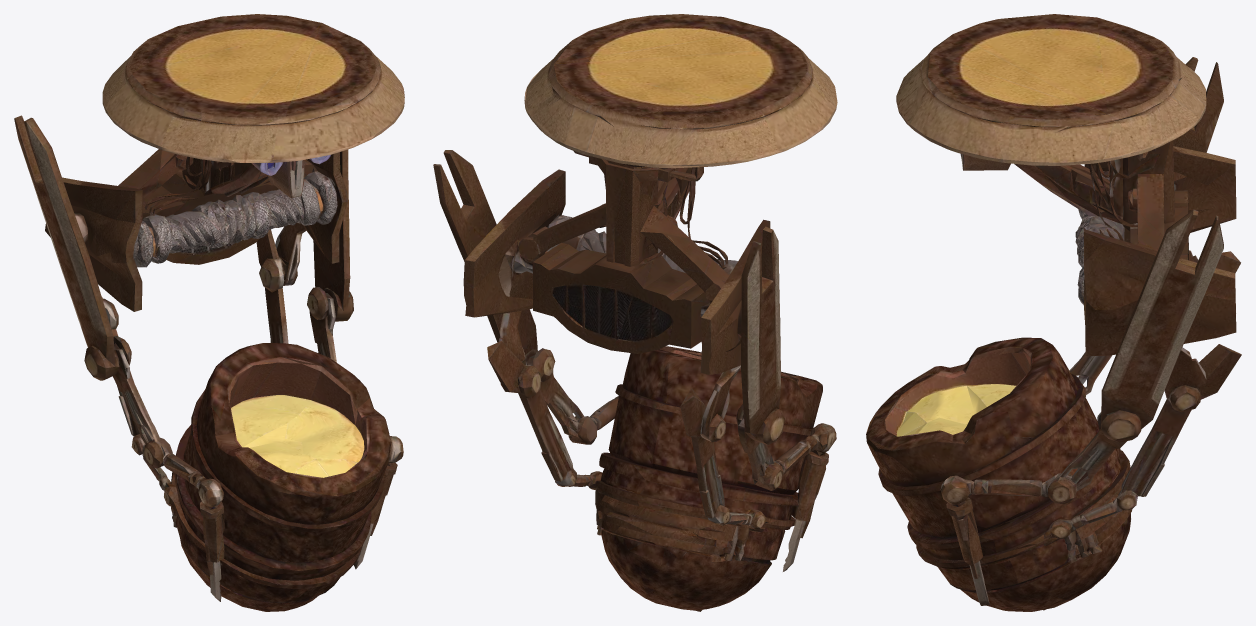
The model's file is droidplatform.glb.
3 views of the same model, side by side, from view 1: azimuth 30°, elevation 25°; view 2: azimuth 150°, elevation 25°; view 3: azimuth 270°, elevation 25° (orthographic). The views are drawn at different scales.
Visible parts, largest first — view 1: droidplatform-centred; view 2: droidplatform-centred; view 3: droidplatform-centred.
Boxes of the visible parts, x1,y1,x2,y2 form: droidplatform-centred: [14, 14, 404, 611]; droidplatform-centred: [433, 14, 837, 611]; droidplatform-centred: [866, 14, 1241, 611].
Size of the model in its own units: 4.16 by 6.6 by 4.18.
1 material, 1 textured.
